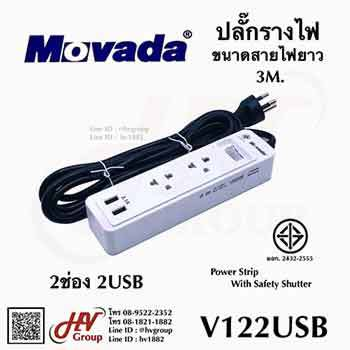Three_eye_plug: (79, 122, 281, 259)
